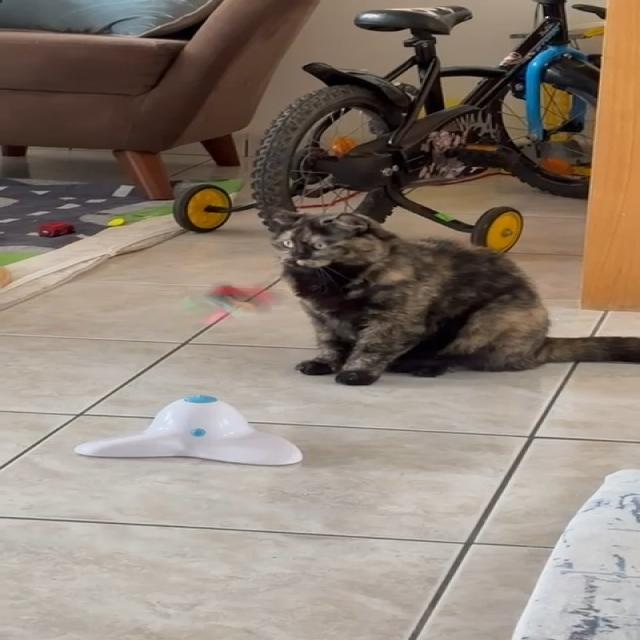authorized: (262, 207, 638, 386)
